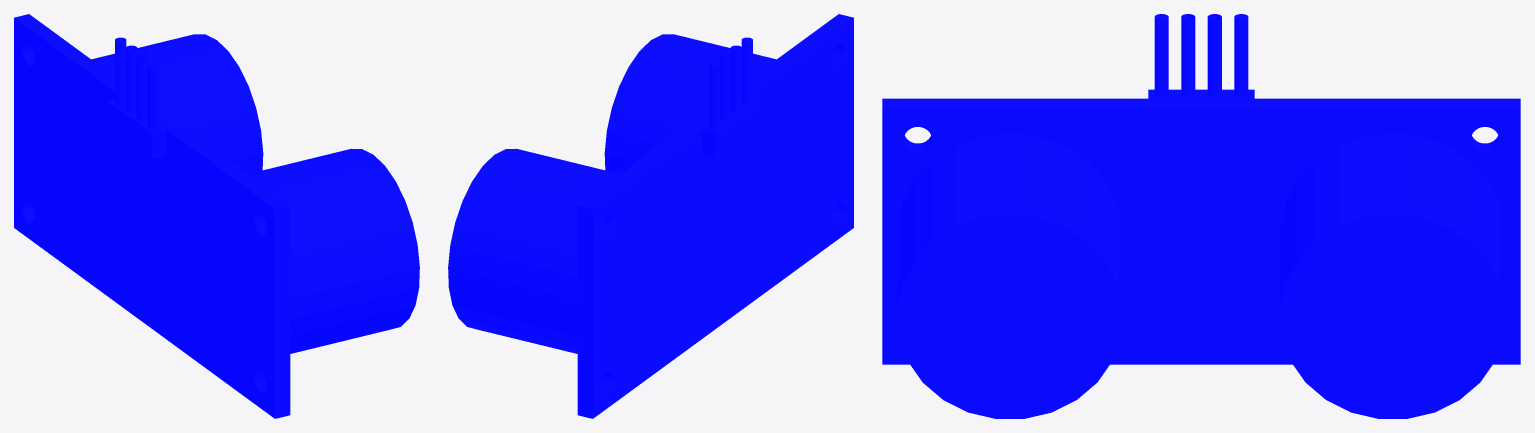
Rendered from Ultrasonic.dae.
3 renders of one model, left to right at view 1: azimuth 30°, elevation 25°; view 2: azimuth 150°, elevation 25°; view 3: azimuth 270°, elevation 25°, orthographic. The views are drawn at different scales.
Parts seen in each view (by area): view 1: ultrasonic; view 2: ultrasonic; view 3: ultrasonic.
Boxes of the visible parts, x1,y1,x2,y2 form: ultrasonic: (14, 14, 419, 418); ultrasonic: (448, 14, 853, 418); ultrasonic: (882, 14, 1520, 418).
Bounding box in the file's own units: 0.0165 × 0.045 × 0.026.
